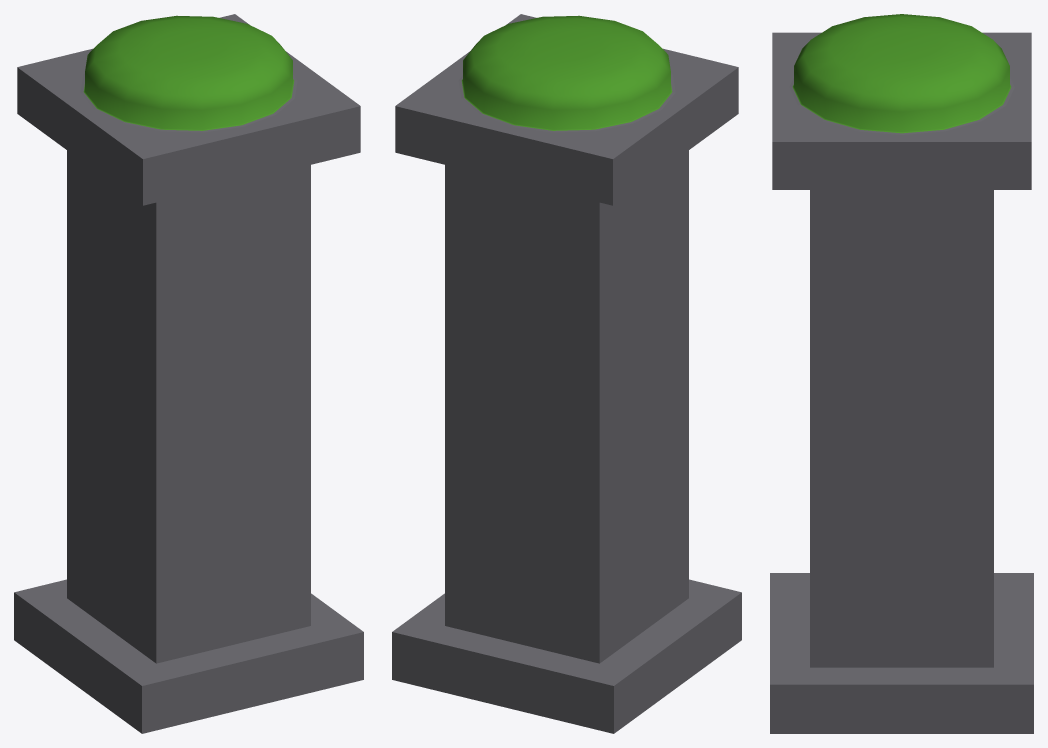
File: button4.fbx
3 views of the same model, side by side, from view 1: azimuth 30°, elevation 25°; view 2: azimuth 150°, elevation 25°; view 3: azimuth 270°, elevation 25° (orthographic). The views are drawn at different scales.
Parts seen in each view (by area): view 1: Cube.001; view 2: Cube.001; view 3: Cube.001.
Boxes of the visible parts, x1=… form: Cube.001: x1=14, y1=14, x2=363, y2=733; Cube.001: x1=392, y1=14, x2=741, y2=733; Cube.001: x1=770, y1=14, x2=1033, y2=733.
Size of the model in its own units: 108 by 286 by 108.
